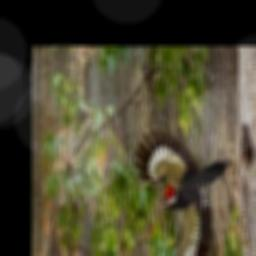Woodpecker: (131, 126, 231, 256)
